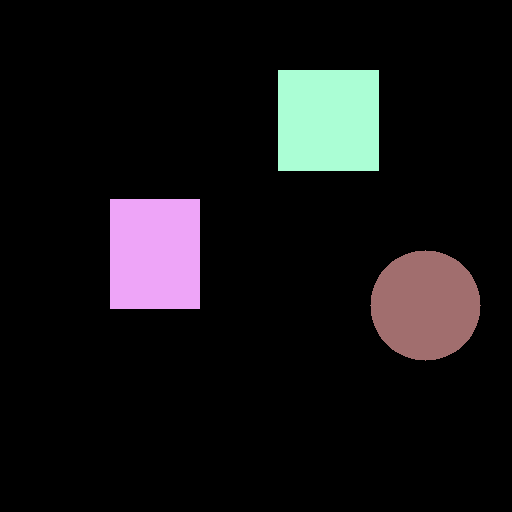circle: (370, 250, 480, 360)
rectangle: (110, 199, 199, 308)
square: (278, 70, 378, 170)
